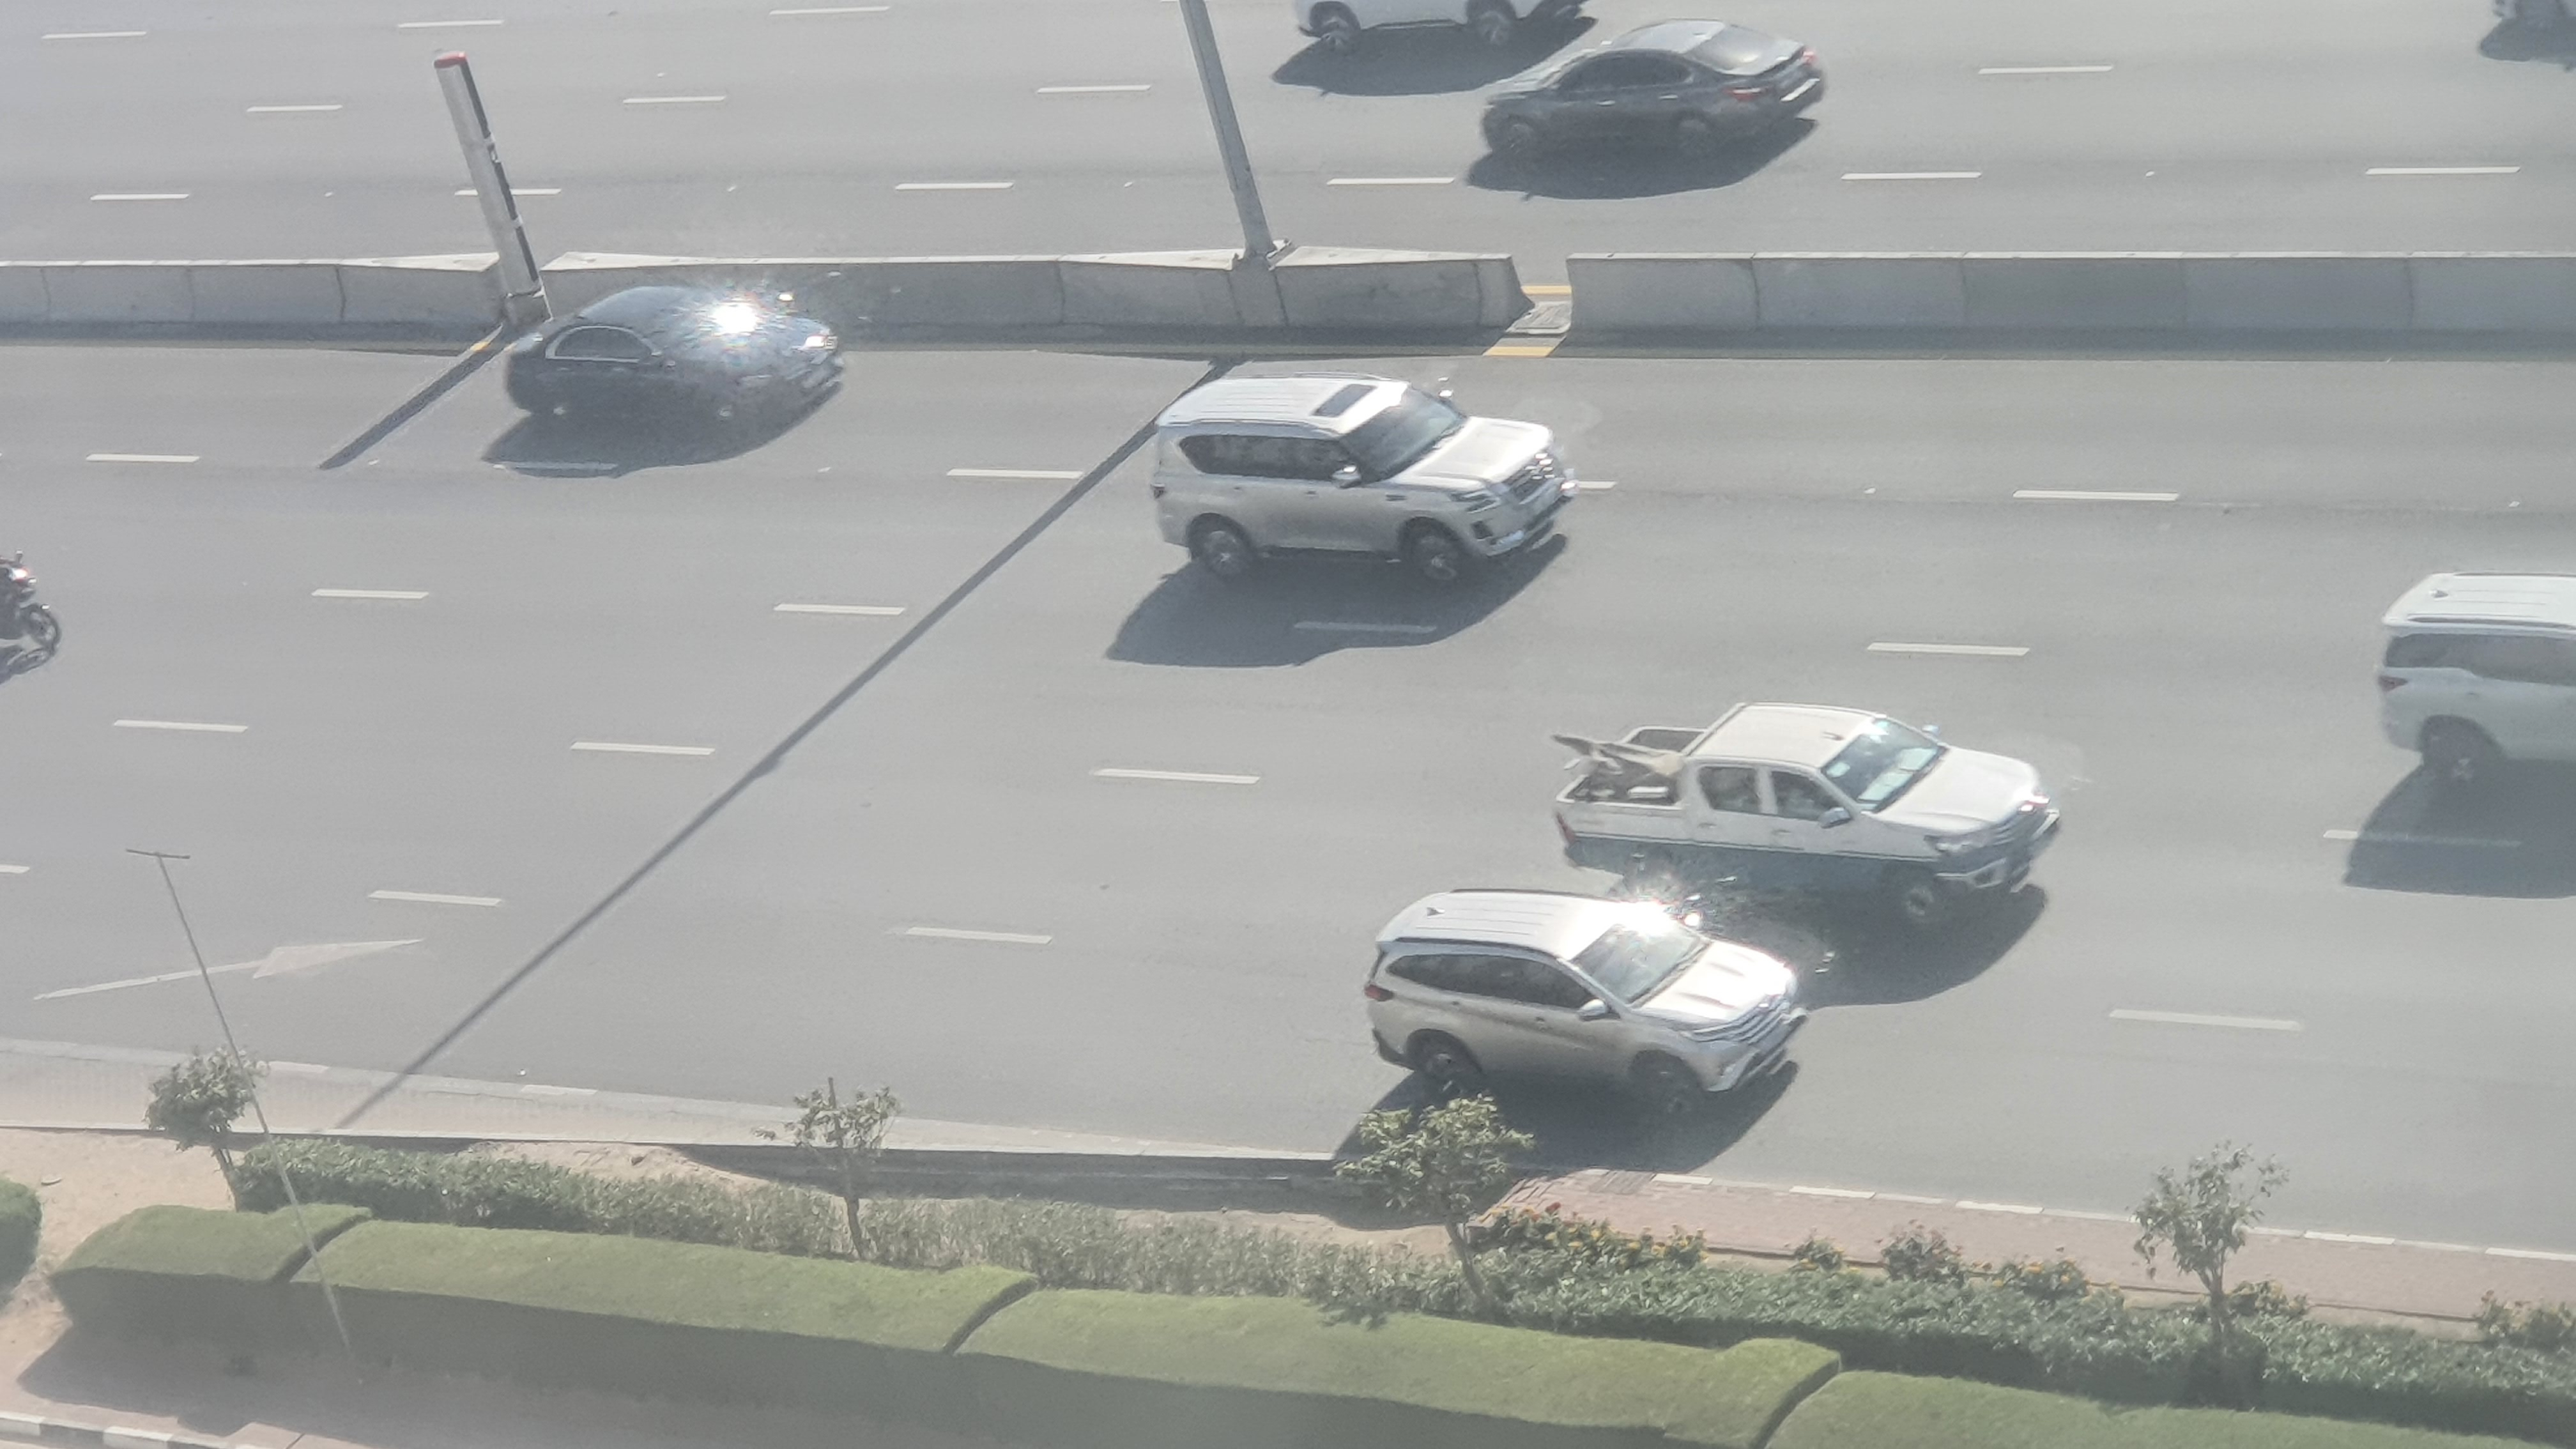NotSunroof: (1364, 879, 1806, 1118)
Sunroof: (1150, 364, 1580, 591), (499, 288, 846, 439)
